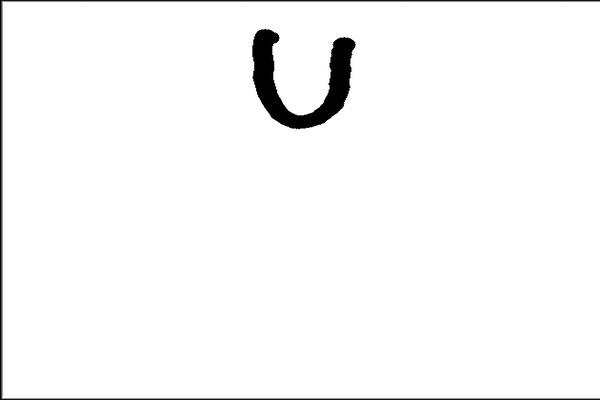U: (236, 22, 372, 130)
